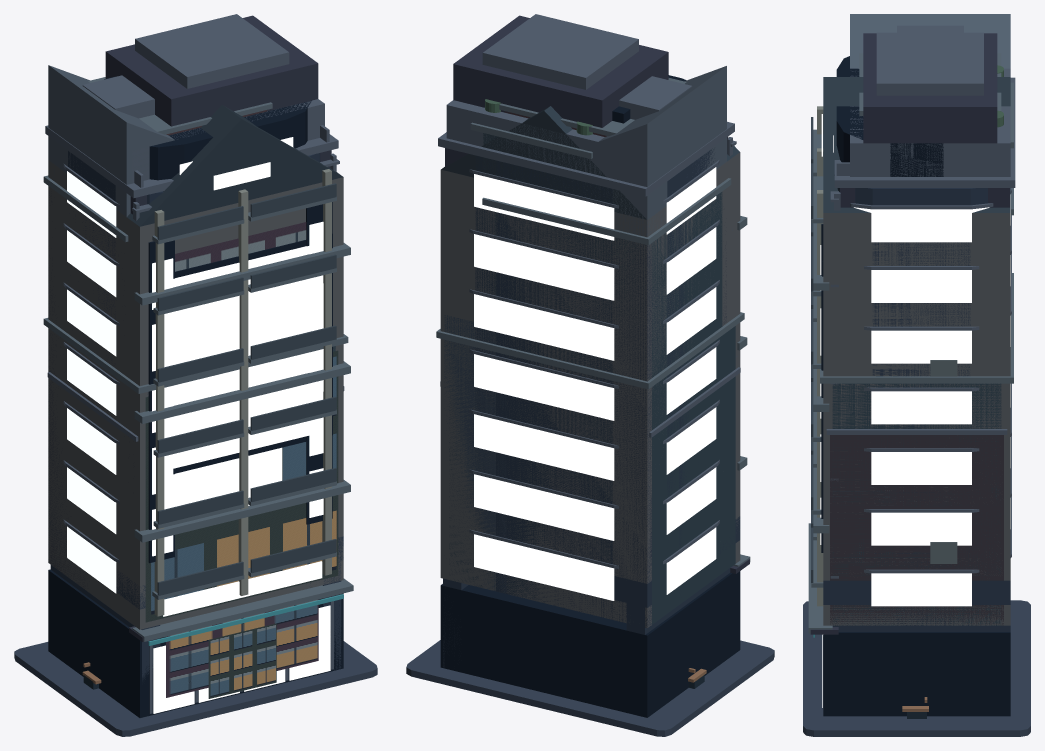
Rendered from city-kit-desktop.glb.
The picture shows the model from 3 angles, left to right: view 1: azimuth 30°, elevation 25°; view 2: azimuth 150°, elevation 25°; view 3: azimuth 270°, elevation 25°; orthographic projection. The views are drawn at different scales.
Visible parts, largest first — view 1: City_Civic_Stone_desktop, City_Hotel_Stone_desktop, City_StationTower_Stone_desktop, City_Qfront_Windows_desktop, City_Arcade_Stone_desktop, City_RoofGarden_Atlas_desktop, City_Meeting_Stone_desktop, City_SlantTower_Stone_desktop, City_Rounded_Windows_desktop, City_Civic_Atlas_desktop, City_Station_Atlas_desktop, City_Landmark109_Windows_desktop (+10 smaller); view 2: City_Civic_Stone_desktop, City_Rounded_Windows_desktop, City_SlantTower_Stone_desktop, City_RoofGarden_Stone_desktop, City_Landmark109_Windows_desktop, City_StationTower_Stone_desktop, City_Arcade_Stone_desktop, City_Rounded_Stone_desktop, City_Landmark109_Stone_desktop, City_Meeting_Stone_desktop, City_Station_Stone_desktop, City_Qfront_Stone_desktop (+2 smaller); view 3: City_Civic_Stone_desktop, City_Terrace_Stone_desktop, City_StationTower_Stone_desktop, City_Arcade_Stone_desktop, City_Rounded_Windows_desktop, City_Landmark109_Windows_desktop, City_RoofGarden_Stone_desktop, City_Meeting_Stone_desktop, City_Landmark109_Stone_desktop, City_Rounded_Stone_desktop, City_SlantTower_Stone_desktop, City_Station_Stone_desktop (+2 smaller).
Part boxes in pixels (left/top/right/bottom): City_Civic_Stone_desktop: left=48, top=105, right=353, bottom=717; City_Hotel_Stone_desktop: left=88, top=77, right=336, bottom=599; City_StationTower_Stone_desktop: left=105, top=14, right=324, bottom=182; City_Qfront_Windows_desktop: left=164, top=246, right=323, bottom=468; City_Arcade_Stone_desktop: left=45, top=76, right=343, bottom=713; City_RoofGarden_Atlas_desktop: left=145, top=350, right=338, bottom=622; City_Meeting_Stone_desktop: left=14, top=641, right=377, bottom=736; City_SlantTower_Stone_desktop: left=48, top=65, right=174, bottom=568; City_Rounded_Windows_desktop: left=67, top=171, right=116, bottom=593; City_Civic_Atlas_desktop: left=175, top=222, right=306, bottom=698; City_Station_Atlas_desktop: left=166, top=599, right=318, bottom=697; City_Landmark109_Windows_desktop: left=79, top=137, right=293, bottom=573; City_Civic_Stone_desktop: left=440, top=106, right=750, bottom=717; City_Rounded_Windows_desktop: left=474, top=167, right=716, bottom=600; City_SlantTower_Stone_desktop: left=444, top=66, right=726, bottom=627; City_RoofGarden_Stone_desktop: left=436, top=99, right=744, bottom=624; City_Landmark109_Windows_desktop: left=495, top=176, right=704, bottom=588; City_StationTower_Stone_desktop: left=446, top=14, right=668, bottom=184; City_Arcade_Stone_desktop: left=438, top=106, right=749, bottom=716; City_Rounded_Stone_desktop: left=469, top=148, right=719, bottom=616; City_Landmark109_Stone_desktop: left=491, top=75, right=707, bottom=602; City_Meeting_Stone_desktop: left=406, top=640, right=774, bottom=736; City_Station_Stone_desktop: left=443, top=516, right=740, bottom=668; City_Qfront_Stone_desktop: left=619, top=76, right=692, bottom=119; City_Civic_Stone_desktop: left=808, top=77, right=1010, bottom=716; City_Terrace_Stone_desktop: left=826, top=416, right=1007, bottom=625; City_StationTower_Stone_desktop: left=850, top=32, right=1010, bottom=176; City_Arcade_Stone_desktop: left=810, top=77, right=1015, bottom=716; City_Rounded_Windows_desktop: left=854, top=194, right=1010, bottom=606; City_Landmark109_Windows_desktop: left=833, top=135, right=946, bottom=606; City_RoofGarden_Stone_desktop: left=820, top=65, right=1013, bottom=625; City_Meeting_Stone_desktop: left=803, top=600, right=1030, bottom=736; City_Landmark109_Stone_desktop: left=836, top=56, right=1011, bottom=625; City_Rounded_Stone_desktop: left=834, top=174, right=1011, bottom=625; City_SlantTower_Stone_desktop: left=850, top=14, right=1010, bottom=68; City_Station_Stone_desktop: left=823, top=580, right=1010, bottom=631.
Size of the model in its own units: 23 by 51.5 by 17.
Materials: 3 (1 with a texture image).
